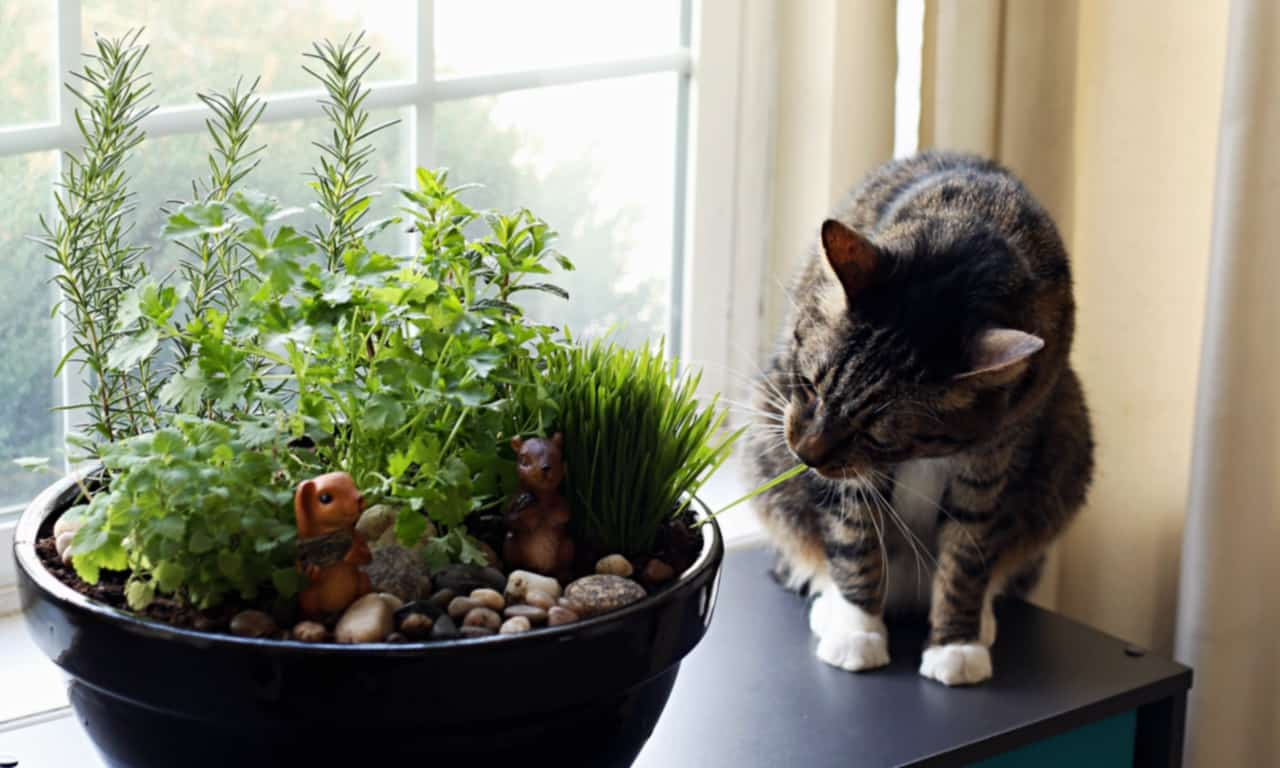cat: (751, 151, 1100, 680)
